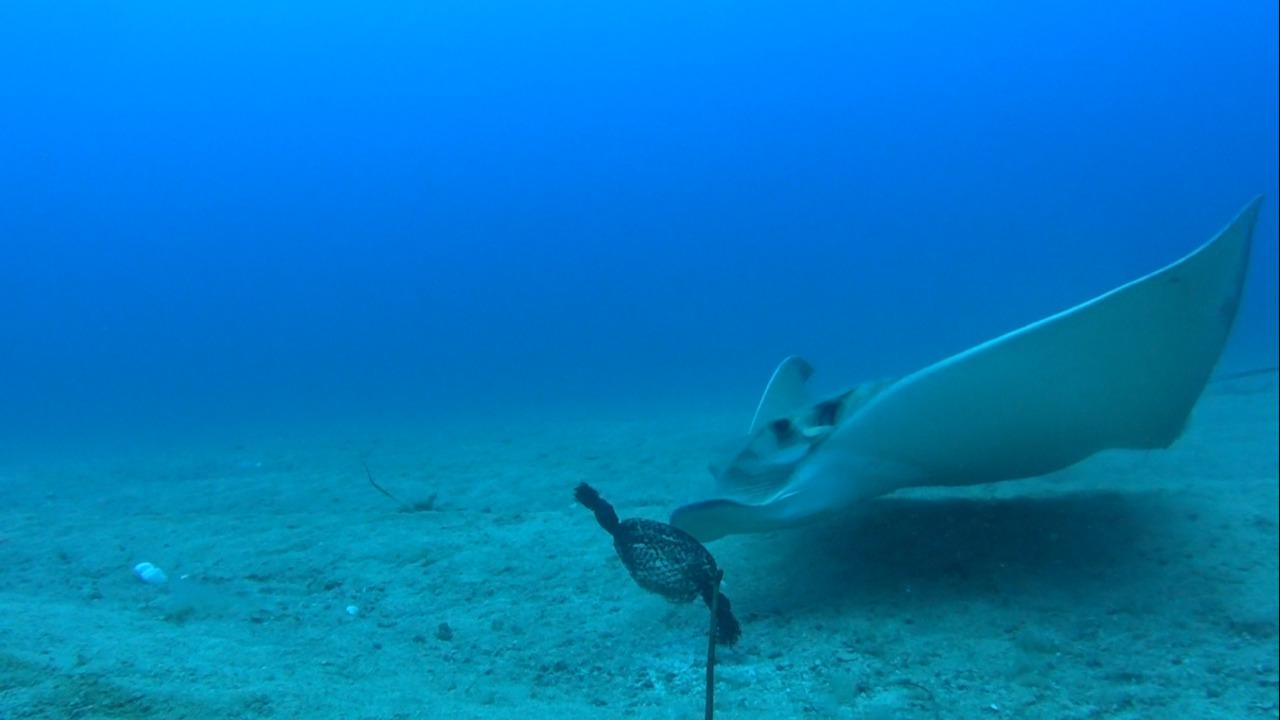myliobatis: (665, 192, 1279, 550)
